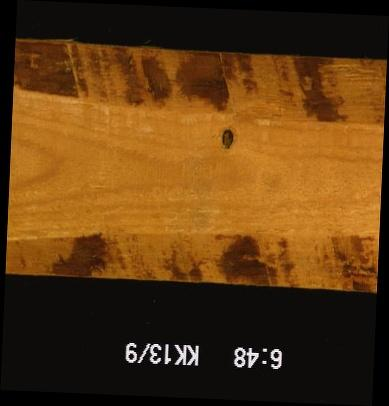dry_knot: (219, 126, 236, 153)
wave: (13, 45, 385, 116), (5, 231, 377, 282)
